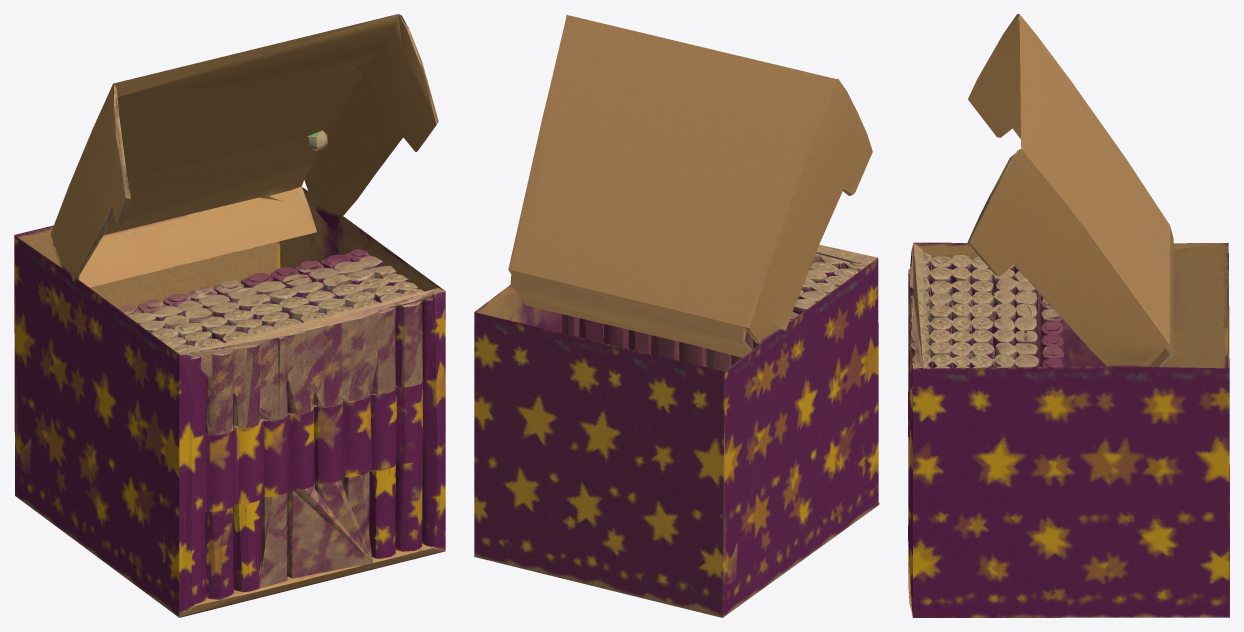
The model's file is firework_battery_40.glb.
3 renders of one model, left to right at view 1: azimuth 30°, elevation 25°; view 2: azimuth 150°, elevation 25°; view 3: azimuth 270°, elevation 25°, orthographic. The views are drawn at different scales.
Size of the model in its own units: 1.25 by 1.9 by 1.16.
Materials: 1 (1 with a texture image).
